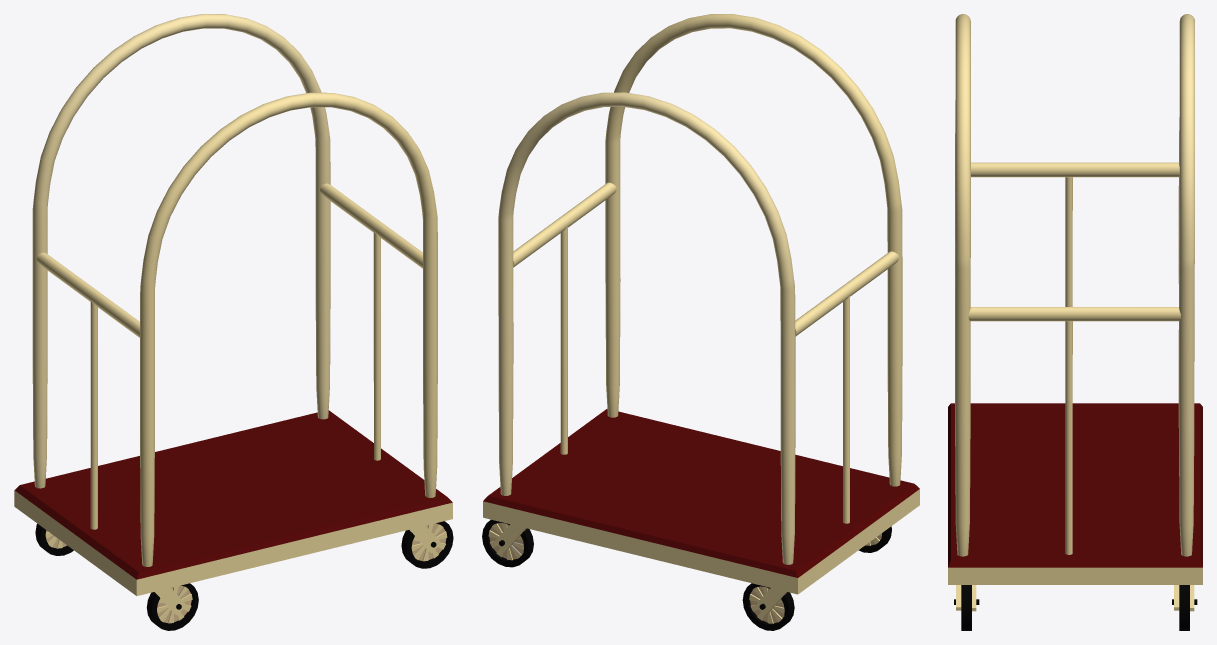
The model's file is Chariot hotel.fbx.
The picture shows the model from 3 angles, left to right: view 1: azimuth 30°, elevation 25°; view 2: azimuth 150°, elevation 25°; view 3: azimuth 270°, elevation 25°; orthographic projection. The views are drawn at different scales.
Visible parts, largest first — view 1: pCube1, pasted__polySurface1, polySurface2, pasted__pasted__pasted__pasted__pasted__pasted__pasted__pCyl, pasted__pasted__pasted__pasted__pasted__pasted__pasted__past, pasted__pasted__pasted__pasted__pasted__pasted__pCylinder5, pasted__pasted__pasted__pasted__pasted__pCylinder5, pCylinder2, pasted__pCylinder2, pCylinder3, pasted__pCylinder3; view 2: pCube1, polySurface2, pasted__polySurface1, pasted__pasted__pasted__pasted__pasted__pasted__pasted__past, pasted__pasted__pasted__pasted__pasted__pasted__pCylinder5, pasted__pasted__pasted__pasted__pasted__pCylinder5, pasted__pasted__pasted__pasted__pasted__pasted__pasted__pCyl, pasted__pasted__pasted__pCylinder2, pasted__pasted__pCylinder2, pasted__pasted__pasted__pCylinder3, pasted__pasted__pCylinder3; view 3: pCube1, polySurface2, pasted__polySurface1, pasted__pasted__pasted__pasted__pasted__pasted__pCylinder5, pasted__pasted__pasted__pasted__pasted__pCylinder5, pasted__pasted__pasted__pasted__pasted__pasted__pasted__past, pasted__pasted__pasted__pasted__pasted__pasted__pasted__pCyl, pasted__pCylinder2, pasted__pasted__pCylinder2.
Boxes of the visible parts, bbox=[...] form: pCube1: bbox=[14, 410, 452, 595]; pasted__polySurface1: bbox=[140, 92, 437, 566]; polySurface2: bbox=[32, 14, 330, 488]; pasted__pasted__pasted__pasted__pasted__pasted__pasted__pCyl: bbox=[90, 301, 97, 529]; pasted__pasted__pasted__pasted__pasted__pasted__pasted__past: bbox=[373, 232, 380, 460]; pasted__pasted__pasted__pasted__pasted__pasted__pCylinder5: bbox=[36, 252, 139, 337]; pasted__pasted__pasted__pasted__pasted__pCylinder5: bbox=[320, 183, 422, 268]; pCylinder2: bbox=[146, 583, 198, 630]; pasted__pCylinder2: bbox=[401, 521, 453, 568]; pCylinder3: bbox=[157, 585, 192, 623]; pasted__pCylinder3: bbox=[411, 523, 447, 561]; pCube1: bbox=[483, 409, 919, 594]; polySurface2: bbox=[498, 92, 795, 564]; pasted__polySurface1: bbox=[605, 14, 902, 486]; pasted__pasted__pasted__pasted__pasted__pasted__pasted__past: bbox=[560, 227, 567, 454]; pasted__pasted__pasted__pasted__pasted__pasted__pCylinder5: bbox=[795, 251, 899, 336]; pasted__pasted__pasted__pasted__pasted__pCylinder5: bbox=[513, 182, 616, 267]; pasted__pasted__pasted__pasted__pasted__pasted__pasted__pCyl: bbox=[843, 296, 849, 523]; pasted__pasted__pasted__pCylinder2: bbox=[742, 583, 794, 630]; pasted__pasted__pCylinder2: bbox=[482, 519, 533, 567]; pasted__pasted__pasted__pCylinder3: bbox=[749, 586, 784, 623]; pasted__pasted__pCylinder3: bbox=[488, 523, 523, 560]; pCube1: bbox=[948, 403, 1202, 584]; polySurface2: bbox=[1178, 14, 1194, 556]; pasted__polySurface1: bbox=[955, 14, 970, 556]; pasted__pasted__pasted__pasted__pasted__pasted__pCylinder5: bbox=[971, 162, 1179, 177]; pasted__pasted__pasted__pasted__pasted__pCylinder5: bbox=[968, 307, 1180, 321]; pasted__pasted__pasted__pasted__pasted__pasted__pasted__past: bbox=[1065, 321, 1072, 554]; pasted__pasted__pasted__pasted__pasted__pasted__pasted__pCyl: bbox=[1065, 177, 1072, 306]; pasted__pCylinder2: bbox=[961, 585, 971, 630]; pasted__pasted__pCylinder2: bbox=[1179, 585, 1189, 630].
Bounding box in the file's own units: 18.87 × 28.18 × 12.36.
